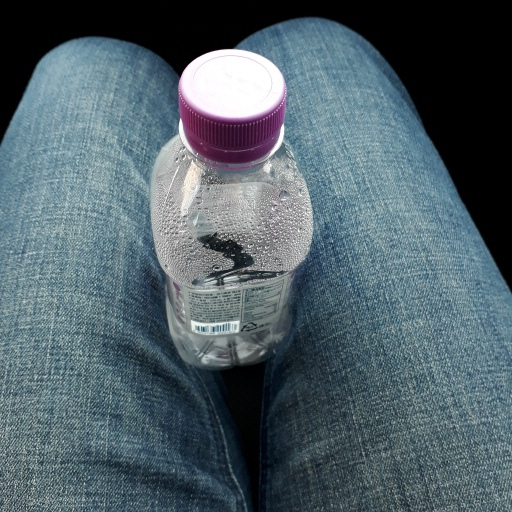Plastic_0: (149, 47, 315, 370)
